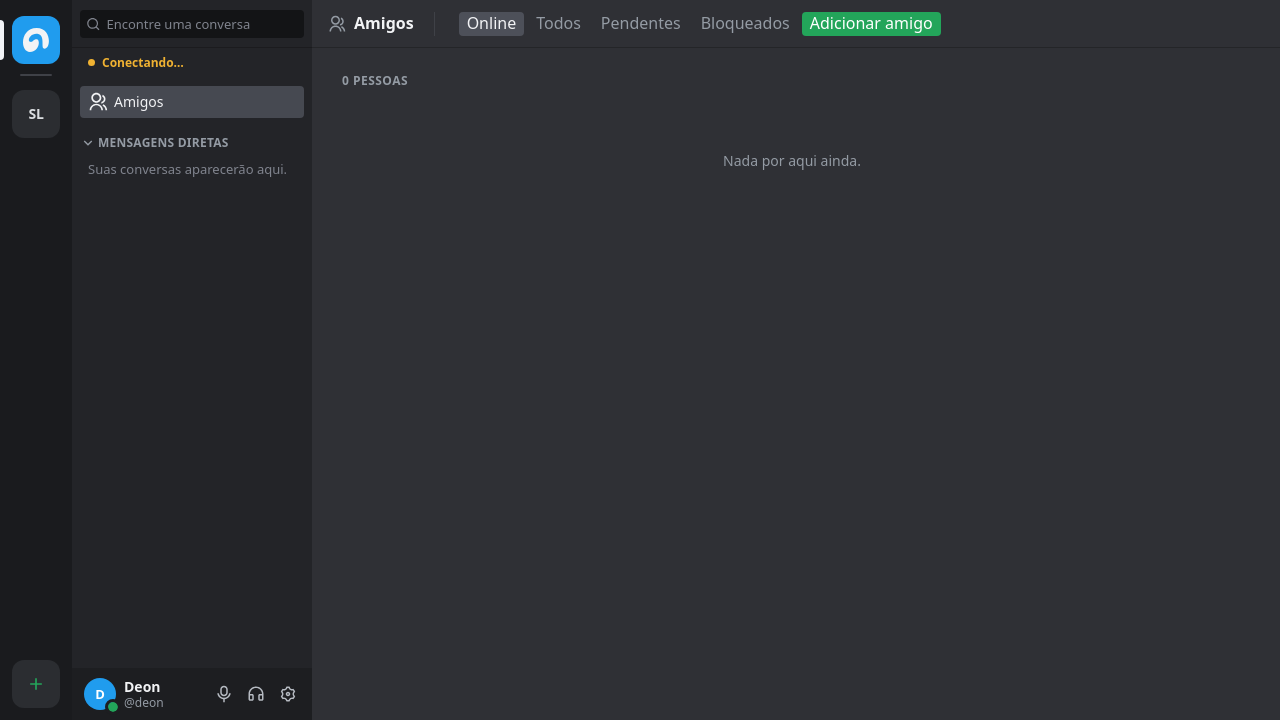
Test case: App › abre sala de voz sem selecionar texto, oculta membros e minimiza ao navegar
What coordinates should you click on to do the following:
click the button with aria-label "Stapp local"
I would click on:
 (36, 114)
Its box is [12, 90, 60, 138].
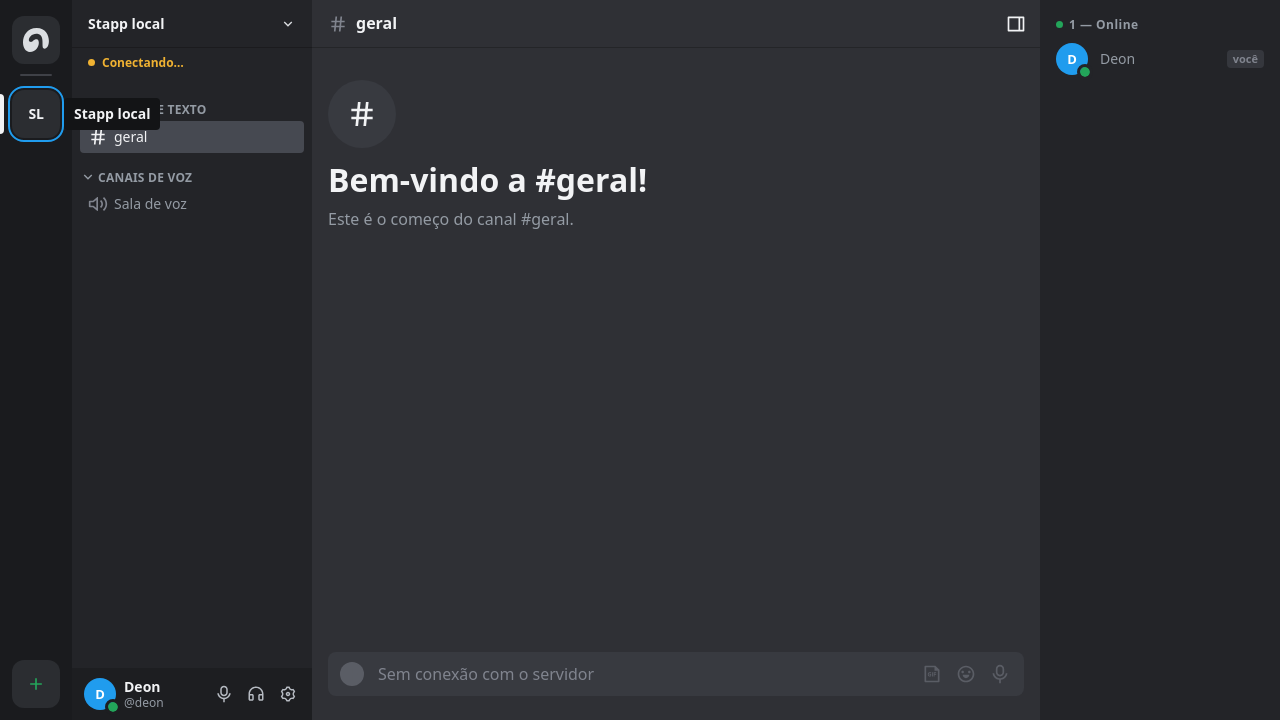
Expected: the element named "Membros do servidor" is shown, [1040, 0, 1279, 719]
What coordinates should you click on to do the following:
click the button "Sala de voz"
I would click on:
 (192, 204)
Its box is [80, 188, 304, 220].
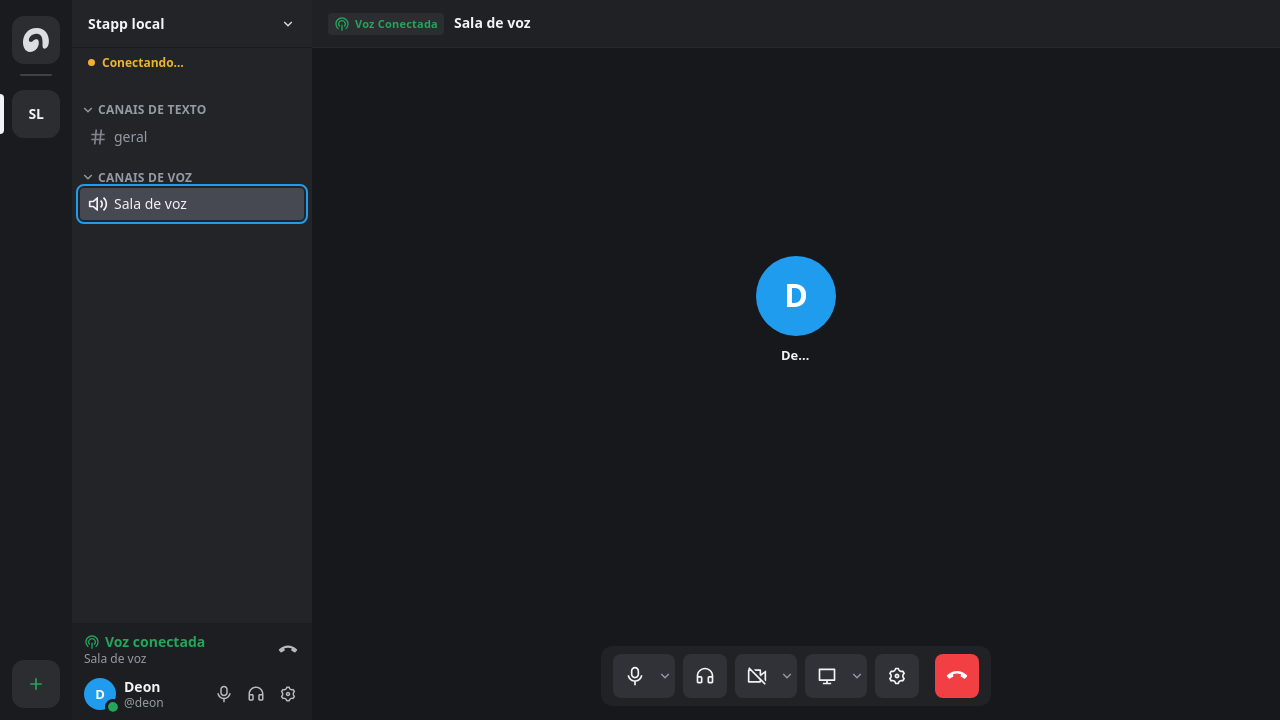
Expected: the element named "Chamada em Sala de voz" is shown
What coordinates should you click on to do the following:
click the button "geral"
I would click on:
 (192, 137)
Its box is [80, 121, 304, 153].
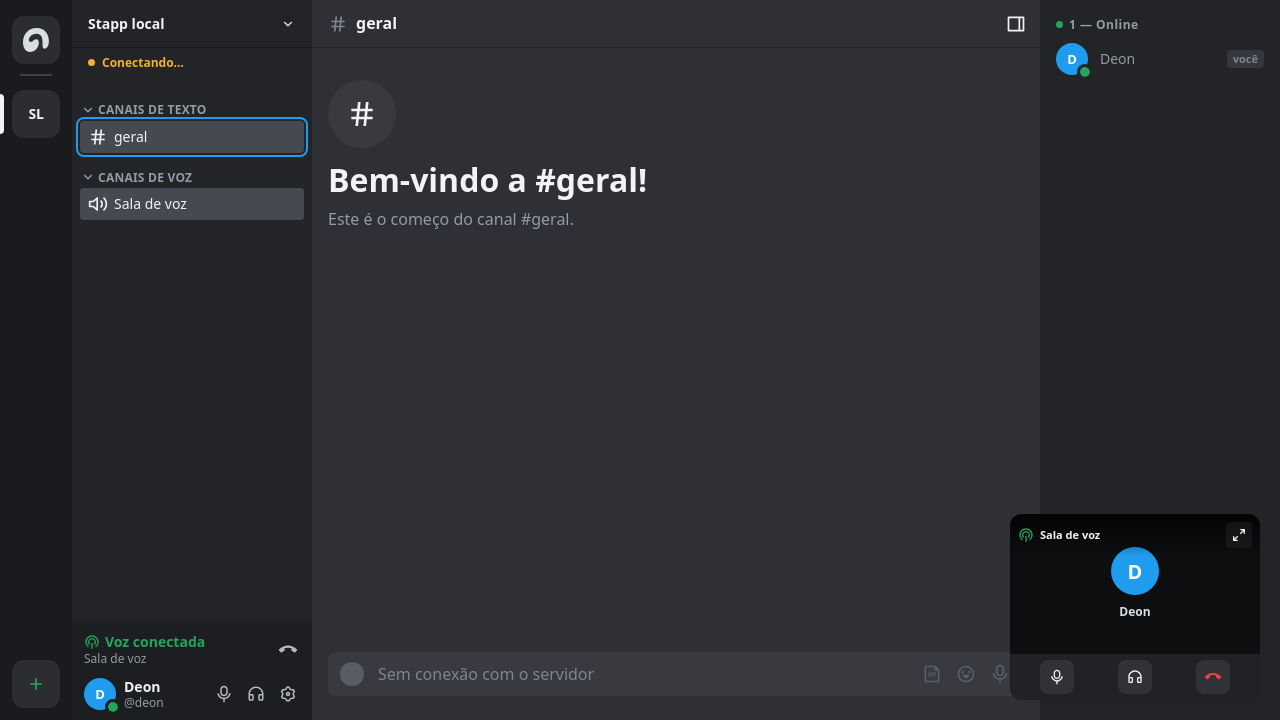
Expected: the element named "Chamada ativa em Sala de voz" is shown, [1010, 514, 1260, 700]
What coordinates should you click on to do the following:
click the button named "Expandir chamada"
I would click on:
 (1239, 535)
Its box is [1226, 522, 1252, 548].
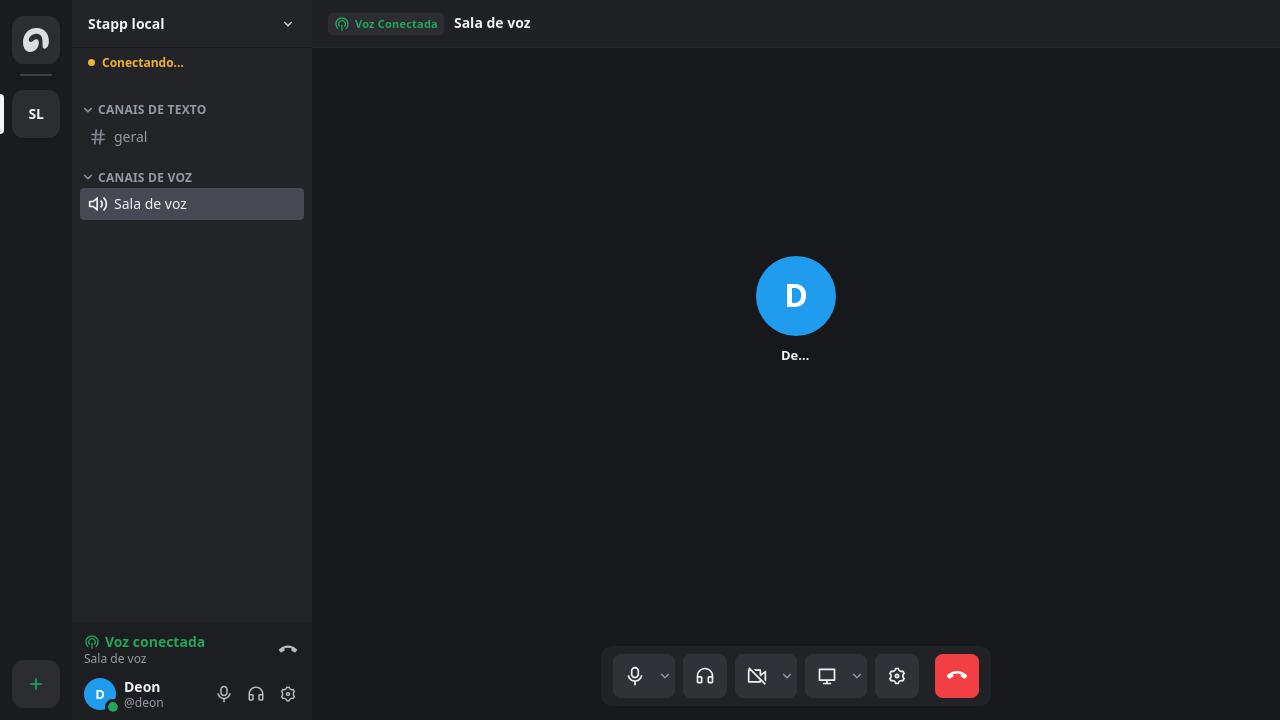
What coordinates should you click on to do the following:
click the button named "desconectar"
I would click on:
 (957, 676)
Its box is [935, 654, 979, 698].
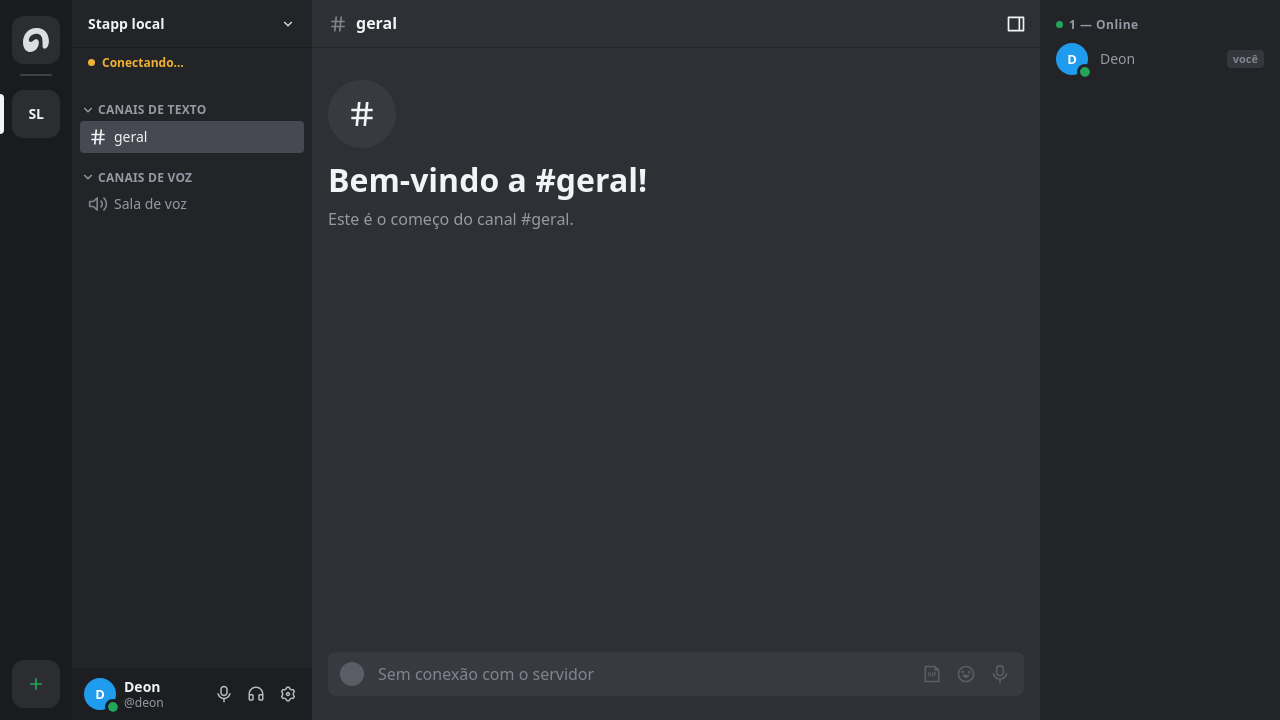
Expected: the element named "Membros do servidor" is shown, [1040, 0, 1279, 719]
